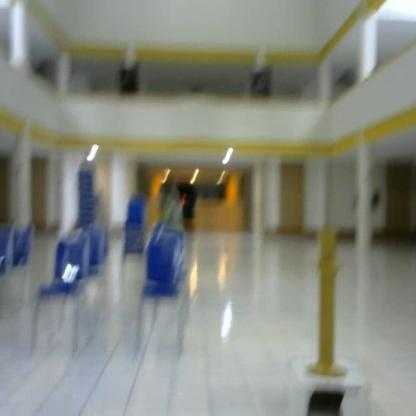pole: (304, 226, 352, 380)
